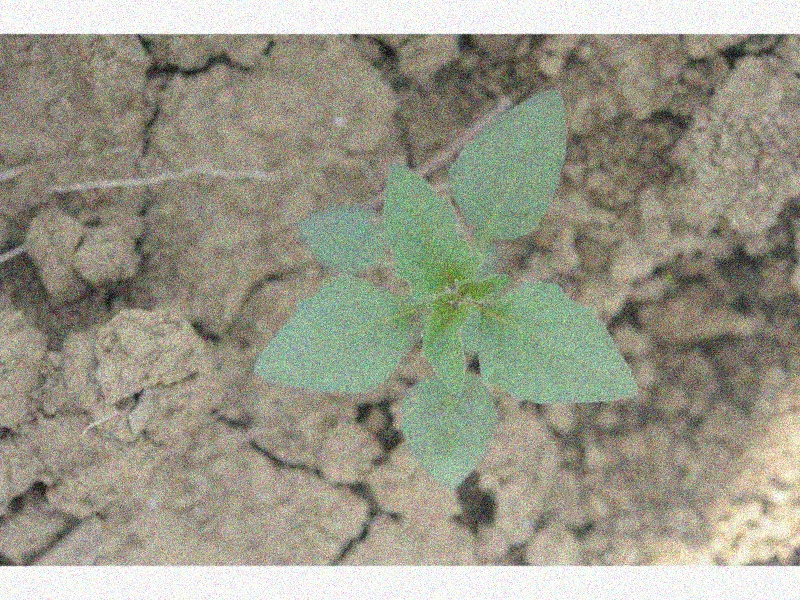nightshade: (255, 88, 635, 489)
